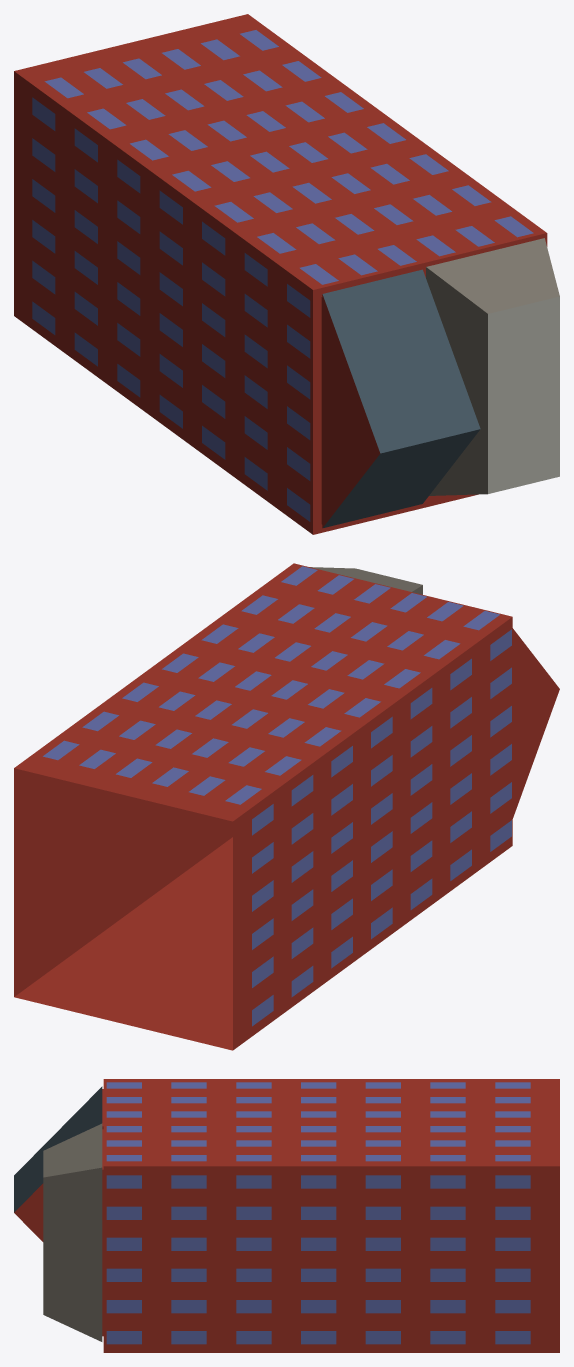
Rendered from construction_2.glb.
3 views of the same model, one above another, from view 1: azimuth 30°, elevation 25°; view 2: azimuth 150°, elevation 25°; view 3: azimuth 270°, elevation 25° (orthographic). The views are drawn at different scales.
Parts seen in each view (by area): view 1: c2; view 2: c2; view 3: c2.
Part boxes in pixels (<box>): c2: <box>14,14,559,534</box>; c2: <box>14,563,559,1050</box>; c2: <box>14,1079,559,1352</box>.
Size of the model in its own units: 14.12 by 14.12 by 37.1.
